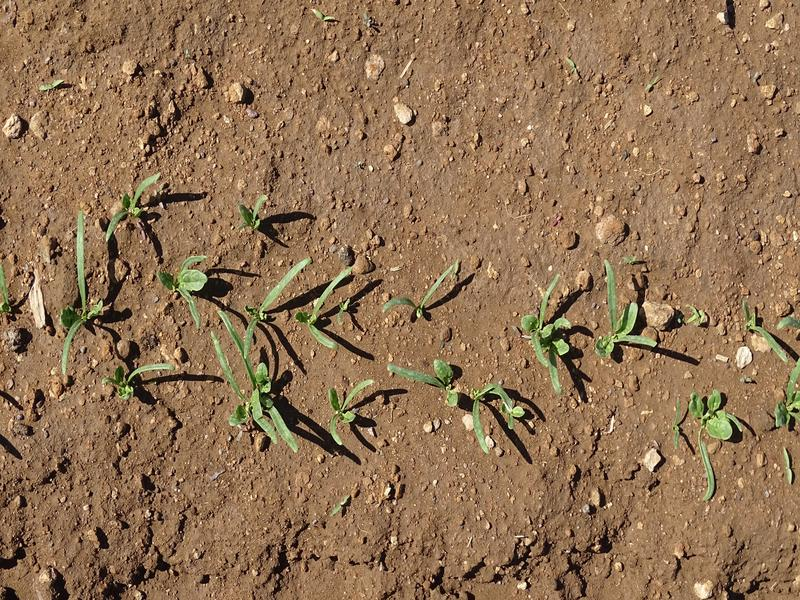Espinaca: (50, 184, 209, 400), (216, 264, 370, 460), (396, 273, 521, 454), (523, 269, 654, 392), (669, 384, 743, 496), (753, 312, 800, 426)
